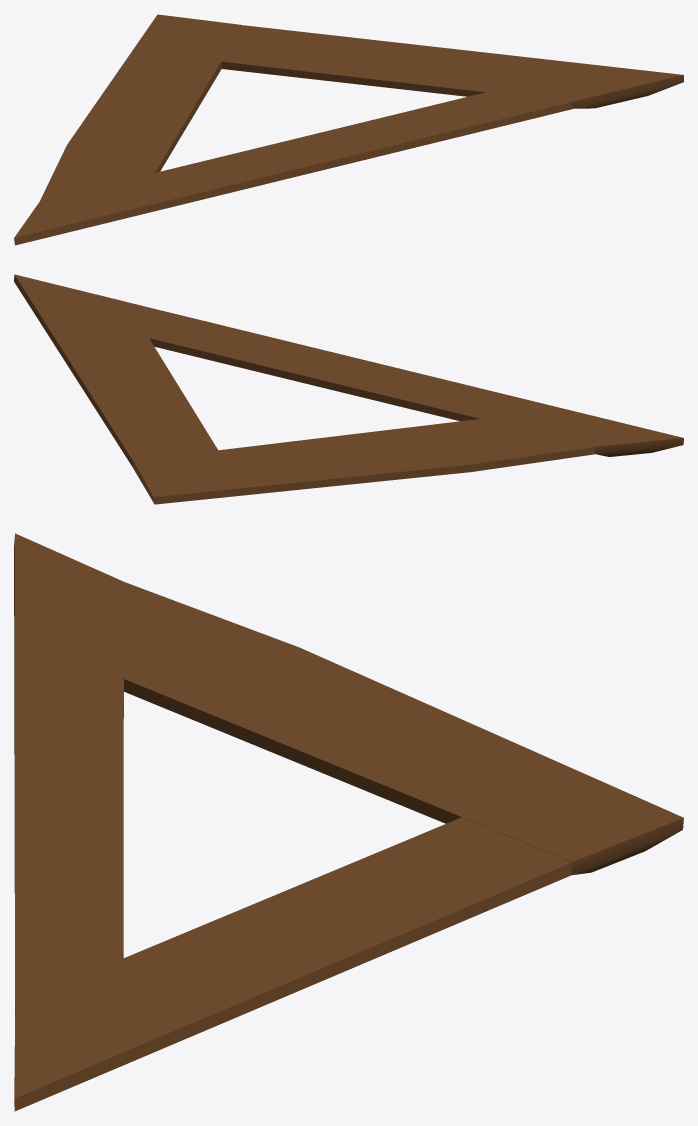
Rendered from rt90_wood_4_willowSplitLogTriFloorSection1.glb.
The picture shows the model from 3 angles, top to bottom: view 1: azimuth 30°, elevation 25°; view 2: azimuth 150°, elevation 25°; view 3: azimuth 270°, elevation 25°; orthographic projection. The views are drawn at different scales.
Visible parts, largest first — view 1: Outside; view 2: Outside; view 3: Outside.
Part boxes in pixels (box(x1,y1,x2,y2)): Outside: box(14, 14, 683, 245); Outside: box(14, 274, 683, 504); Outside: box(14, 533, 683, 1111).
Size of the model in its own units: 5.72 by 0.1233 by 2.86.
